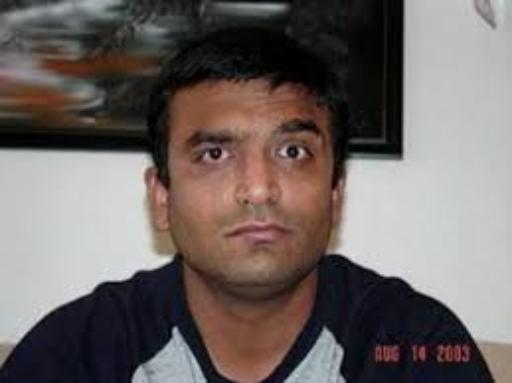left_eye: (277, 145, 317, 163)
left_lip_corner: (282, 227, 301, 242)
right_eye: (193, 147, 238, 166)
right_lip_corner: (219, 231, 240, 245)
